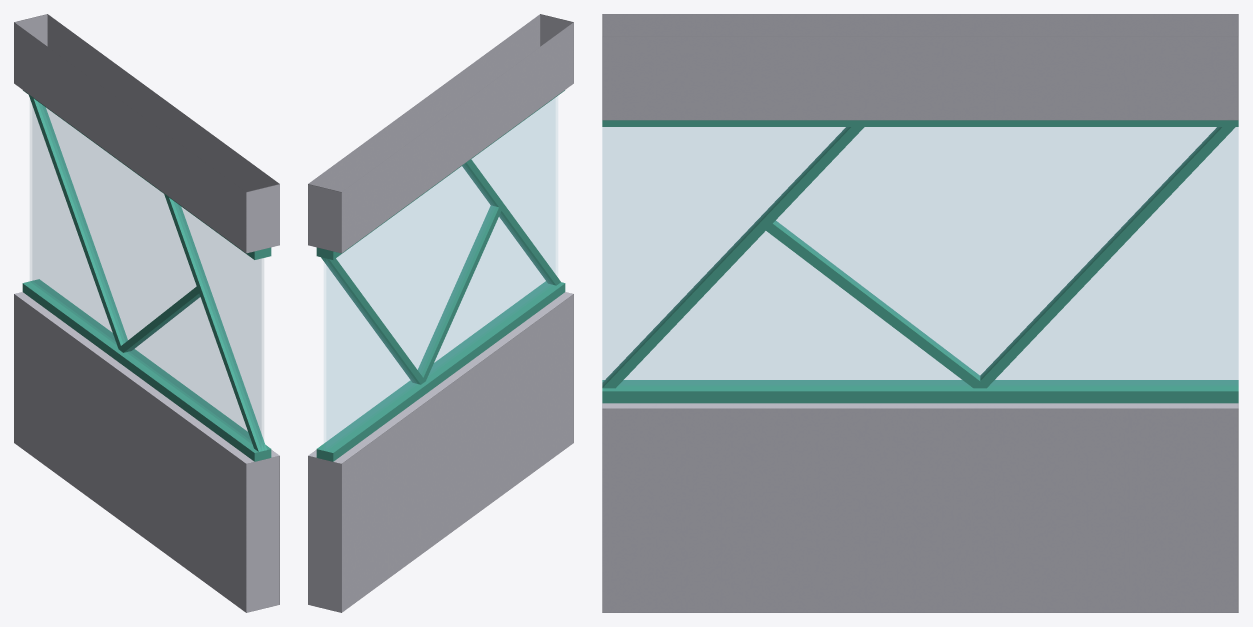
The model's file is Wall_Window_01.FBX.
3 views of the same model, side by side, from view 1: azimuth 30°, elevation 25°; view 2: azimuth 150°, elevation 25°; view 3: azimuth 270°, elevation 25° (orthographic). The views are drawn at different scales.
Parts seen in each view (by area): view 1: Wall_Window_01; view 2: Wall_Window_01; view 3: Wall_Window_01.
Part boxes in pixels (x1,y1,x2,y2): Wall_Window_01: [14, 14, 279, 612]; Wall_Window_01: [308, 14, 573, 612]; Wall_Window_01: [602, 14, 1238, 612].
Size of the model in its own units: 1 by 12 by 12.
3 materials, 1 textured.
